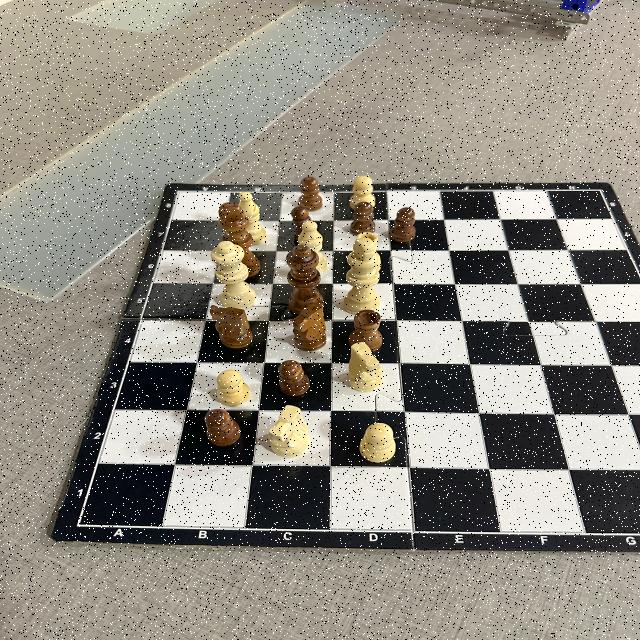Black-King: (218, 202, 260, 278)
Black-Knight: (210, 304, 254, 348), (292, 304, 328, 352)
Black-Pawn: (204, 408, 242, 446), (278, 361, 310, 396), (390, 207, 418, 243), (298, 177, 324, 212), (350, 202, 376, 236), (290, 206, 310, 238)
Black-Queen: (286, 245, 324, 314)
Black-Rook: (348, 309, 383, 350)
White-Bishop: (239, 192, 267, 245), (297, 220, 327, 247)
White-King: (344, 238, 382, 314)
White-Knight: (268, 405, 310, 458), (348, 342, 384, 392)
White-Pawn: (359, 423, 396, 463), (217, 369, 250, 407), (350, 176, 376, 210)
White-Queen: (211, 241, 257, 309)
White-Rook: (356, 232, 378, 240)
